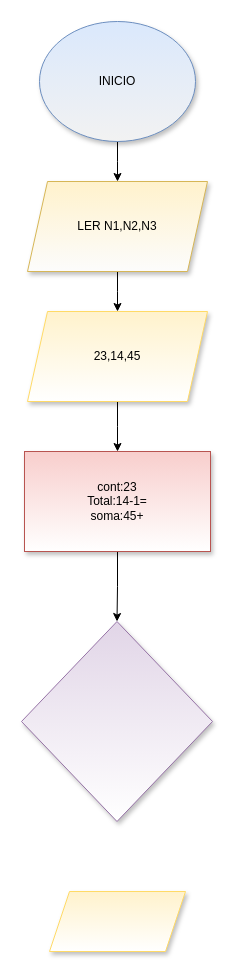
Image size: 236x976. Some labels were removed from this diagram. The centre of each missing label's shape, as x and y in pixels:
ESCREVER": pixel 118 922
N3>N1: pixel 117 722
